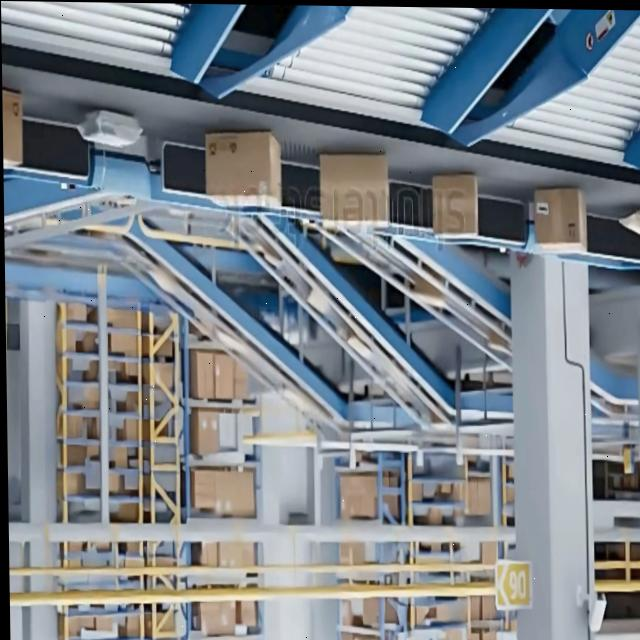product 1: (203, 128, 283, 210), (318, 151, 389, 228), (533, 186, 588, 255), (431, 172, 478, 239)
